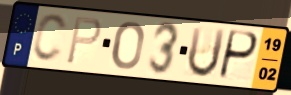3: (146, 20, 181, 80)
C: (31, 12, 70, 65)
O: (110, 20, 146, 71)
P: (216, 28, 261, 82), (64, 15, 104, 67)
U: (185, 25, 228, 80)
